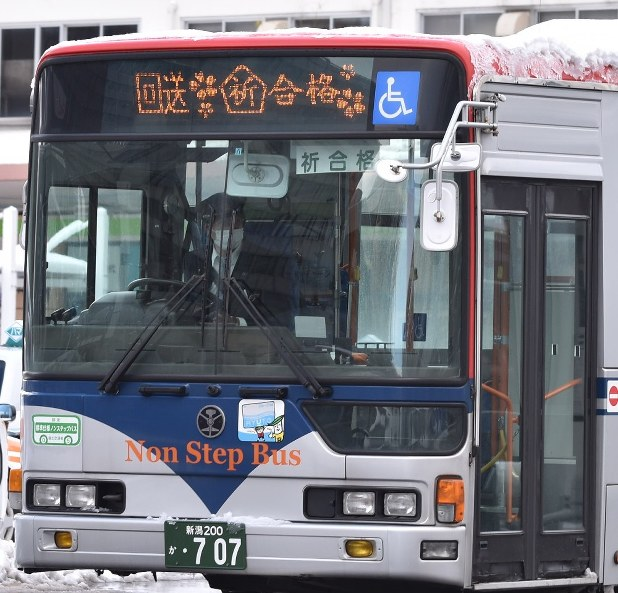destination: (100, 57, 373, 129)
